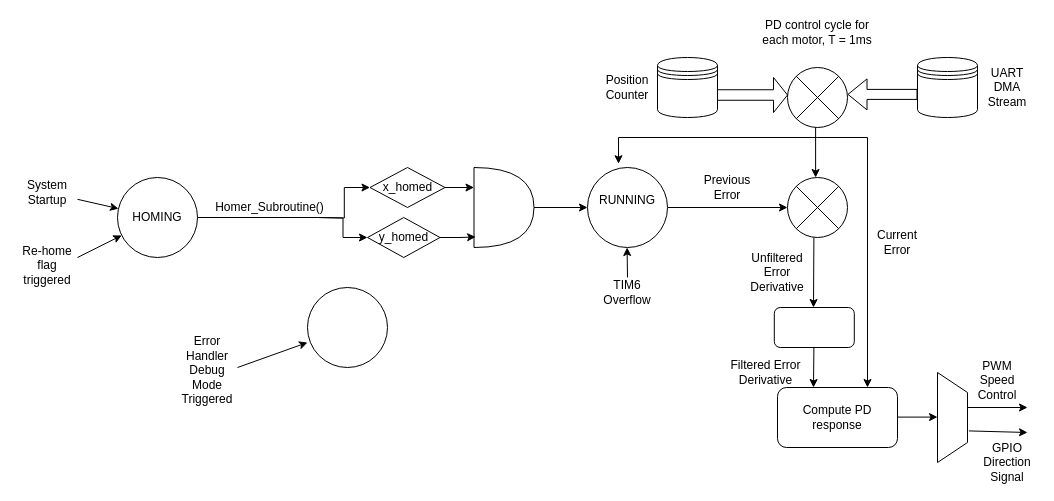
Some shapes in this 1054 by 501 pixel diagram are drawn without their labels. The centre of each missing label's shape, as x and y in pixels:
ERROR: the point at 347,327
Moving Average Filter: the point at 813,327
